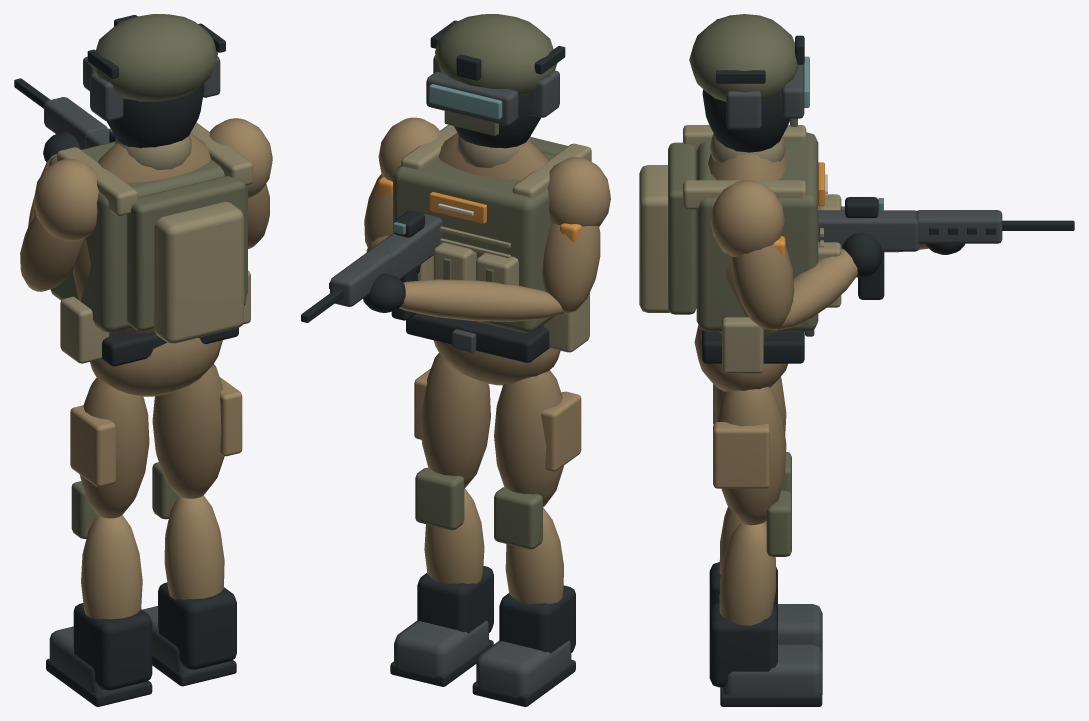
File: t_operator.glb
3 views of the same model, side by side, from view 1: azimuth 30°, elevation 25°; view 2: azimuth 150°, elevation 25°; view 3: azimuth 270°, elevation 25° (orthographic). The views are drawn at different scales.
Parts seen in each view (by area): view 1: equipped_body.001, leg_l_equipment.001, leg_r_equipment.001; view 2: equipped_body.001, leg_l_equipment.001, leg_r_equipment.001; view 3: equipped_body.001, leg_r_equipment.001, leg_l_equipment.001.
Part boxes in pixels (x1,y1,x2,y2): equipped_body.001: (14,14,272,396); leg_l_equipment.001: (46,378,152,706); leg_r_equipment.001: (142,364,242,686); equipped_body.001: (301,14,610,385); leg_l_equipment.001: (472,370,581,706); leg_r_equipment.001: (390,353,493,686); equipped_body.001: (639,14,1074,391); leg_r_equipment.001: (709,387,822,706); leg_l_equipment.001: (709,377,822,653).
Bounding box in the file's own units: 0.7095 × 1.89 × 1.15.
